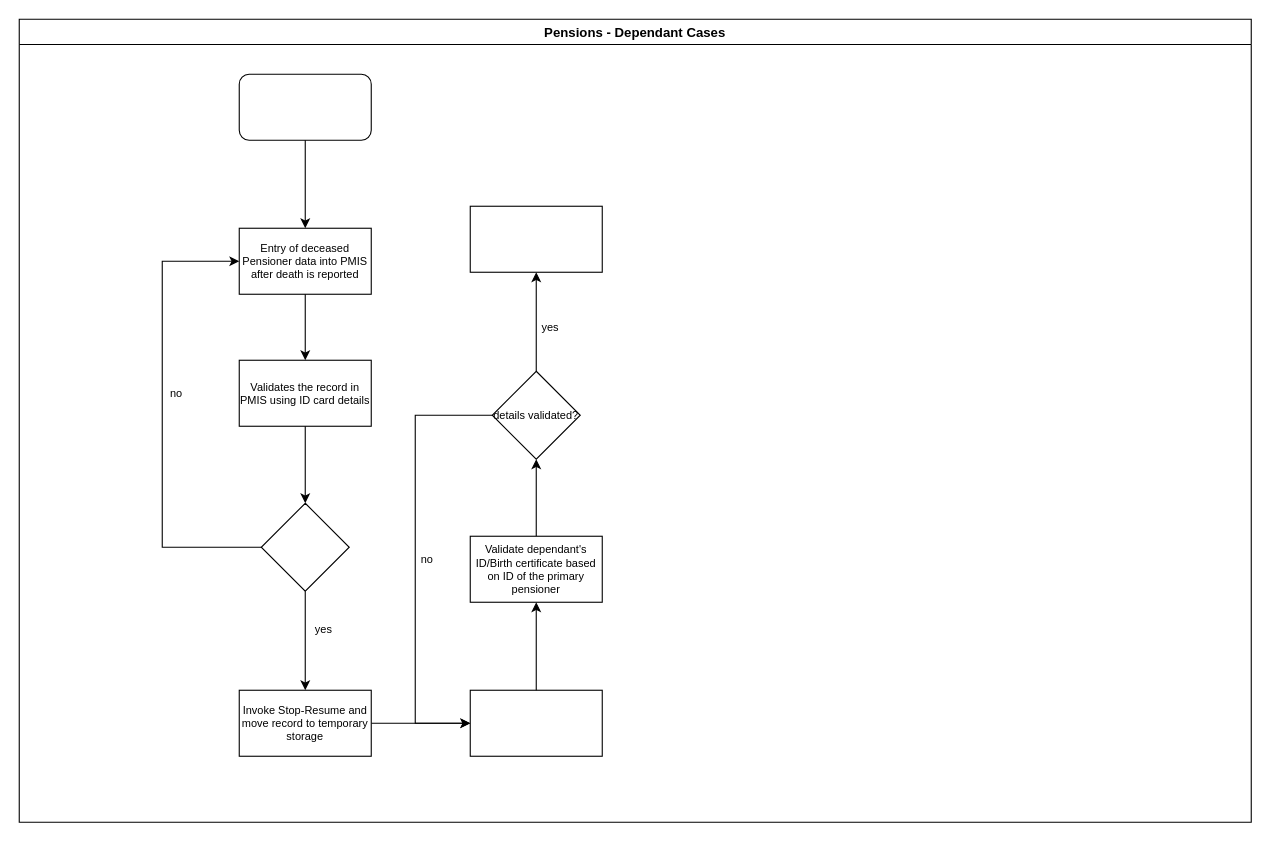
Image size: 1271x842. Some labels were removed from this diagram. The shapes that lost their labels are listed below. From the top down, each one's centre as x and y in pixels, then its label:
point (304, 106): Start
point (304, 546): Details correct?
point (535, 722): Dependant self registers on PMIS
